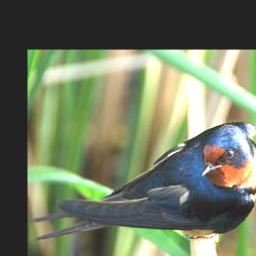Swallow: (31, 118, 256, 242)
